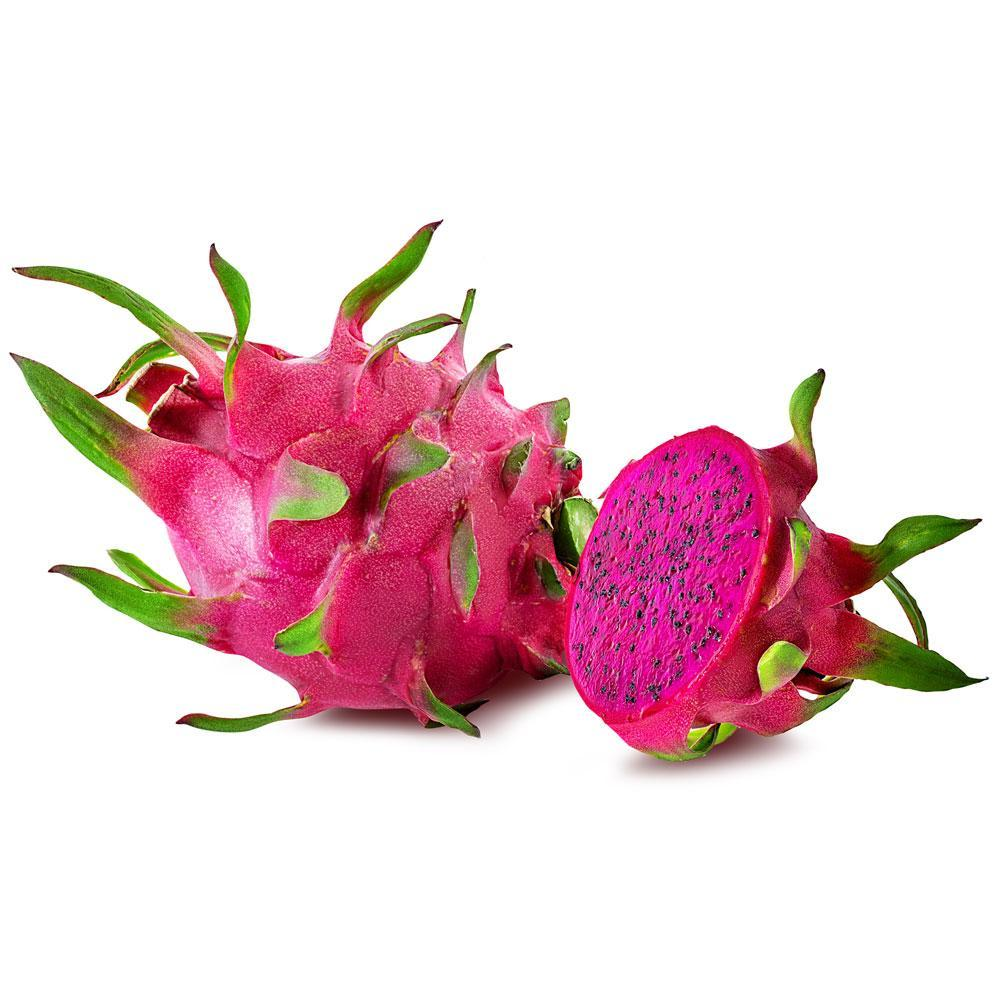dragon-fruit: (145, 346, 586, 714), (559, 421, 858, 734)
